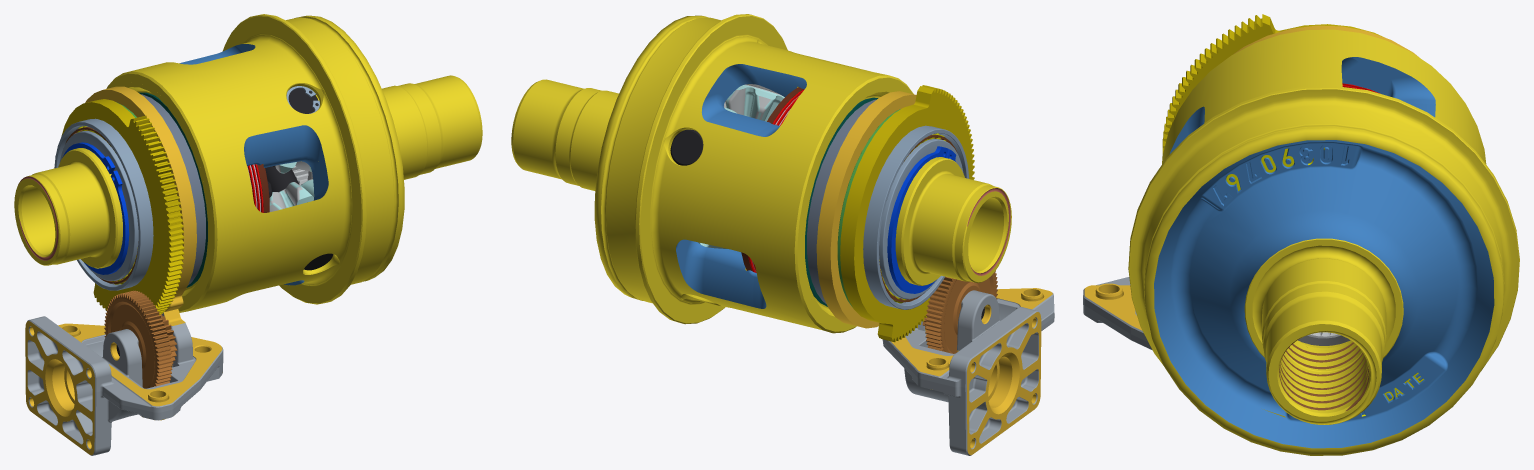
Rendered from TaycanGearRotation2.glb.
The picture shows the model from 3 angles, left to right: view 1: azimuth 30°, elevation 25°; view 2: azimuth 150°, elevation 25°; view 3: azimuth 270°, elevation 25°; orthographic projection. The views are drawn at different scales.
Parts seen in each view (by area): view 1: 1600034145_PRT__K_4, Mesh_136, 1600034146_PRT__G_2, 1600032356_PRT__G_2, DIN628_SNR_65X92X10_5IR_PRT__A, Mesh_138, 1600032111_PRT__D_2, 1600030653_PRT__E_2, DIN471-A65-2_3_PRT__F_1, 1600032191_PRT__C_3.002, 1905540008_PRT__F_10, 1905540009_PRT__H_9; view 2: 1600034145_PRT__K_4, Mesh_136, 1600034146_PRT__G_2, 1600032356_PRT__G_2, DIN628_SNR_65X92X10_5IR_PRT__A, 1600032111_PRT__D_2, Mesh_138, 1600030653_PRT__E_2, DIN471-A65-2_3_PRT__F_1, 1600032191_PRT__C_3, 1905540008_PRT__F_10, 1800008349_PRT__A_10; view 3: 1600034145_PRT__K_4, 1600032356_PRT__G_2, Mesh_136, 1600032111_PRT__D_2, 1600032189_PRT__D_2.
Boxes of the visible parts, x1,y1,x2,y2 form: 1600034145_PRT__K_4: (106,14,482,312); Mesh_136: (25,309,223,455); 1600034146_PRT__G_2: (14,82,210,300); 1600032356_PRT__G_2: (61,99,184,315); DIN628_SNR_65X92X10_5IR_PRT__A: (54,118,153,290); Mesh_138: (104,290,177,388); 1600032111_PRT__D_2: (85,86,196,311); 1600030653_PRT__E_2: (138,92,207,287); DIN471-A65-2_3_PRT__F_1: (62,142,129,274); 1600032191_PRT__C_3.002: (269,179,314,211); 1905540008_PRT__F_10: (265,166,333,270); 1905540009_PRT__H_9: (273,88,318,166); 1600034145_PRT__K_4: (511,14,913,333); Mesh_136: (882,288,1054,455); 1600034146_PRT__G_2: (802,87,1011,322); 1600032356_PRT__G_2: (840,85,974,342); DIN628_SNR_65X92X10_5IR_PRT__A: (863,125,969,309); 1600032111_PRT__D_2: (816,91,916,328); Mesh_138: (922,270,997,353); 1600030653_PRT__E_2: (805,97,878,306); DIN471-A65-2_3_PRT__F_1: (887,146,956,293); 1600032191_PRT__C_3: (724,84,784,121); 1905540008_PRT__F_10: (670,129,703,165); 1800008349_PRT__A_10: (837,109,900,307); 1600034145_PRT__K_4: (1128,29,1519,455); 1600032356_PRT__G_2: (1162,14,1384,154); Mesh_136: (1083,277,1152,350); 1600032111_PRT__D_2: (1224,25,1419,60); 1600032189_PRT__D_2: (1298,332,1350,345).
Size of the model in its own units: 0.2605 by 0.196 by 0.1757.
